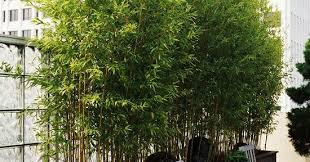bamboo: (111, 2, 283, 152), (36, 3, 144, 162)
